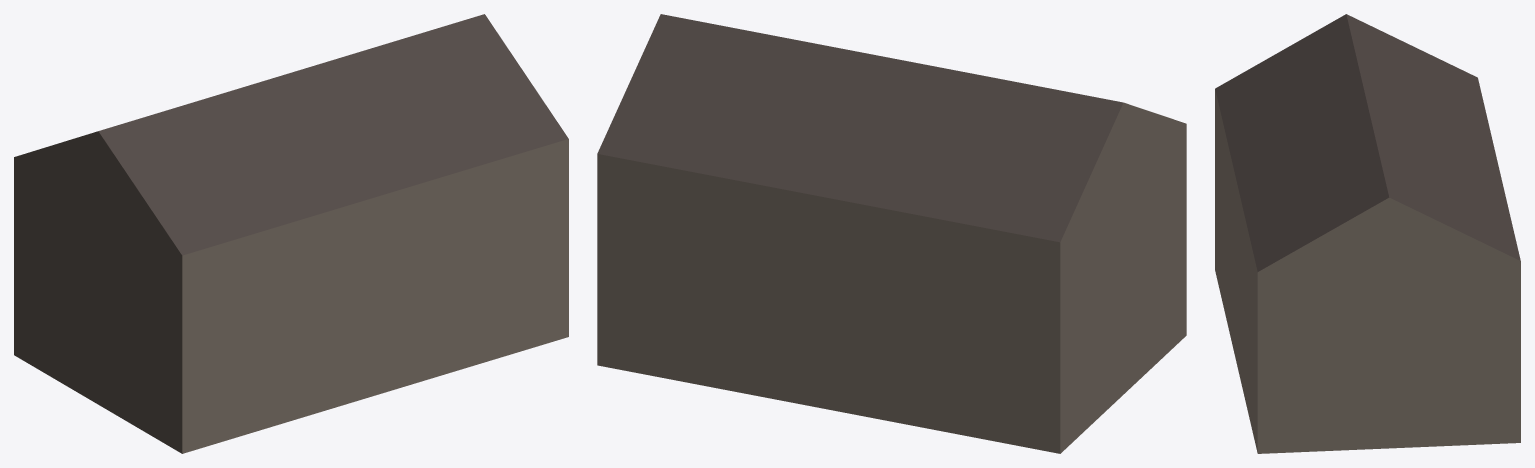
The picture shows the model from 3 angles, left to right: view 1: azimuth 30°, elevation 25°; view 2: azimuth 150°, elevation 25°; view 3: azimuth 270°, elevation 25°; orthographic projection. The views are drawn at different scales.
Parts seen in each view (by area): view 1: HP-w369317565; view 2: HP-w369317565; view 3: HP-w369317565.
Boxes of the visible parts, x1=… form: HP-w369317565: x1=14, y1=14, x2=568, y2=453; HP-w369317565: x1=597, y1=14, x2=1186, y2=453; HP-w369317565: x1=1215, y1=14, x2=1520, y2=453.
Size of the model in its own units: 13.78 by 8.28 by 9.15.
